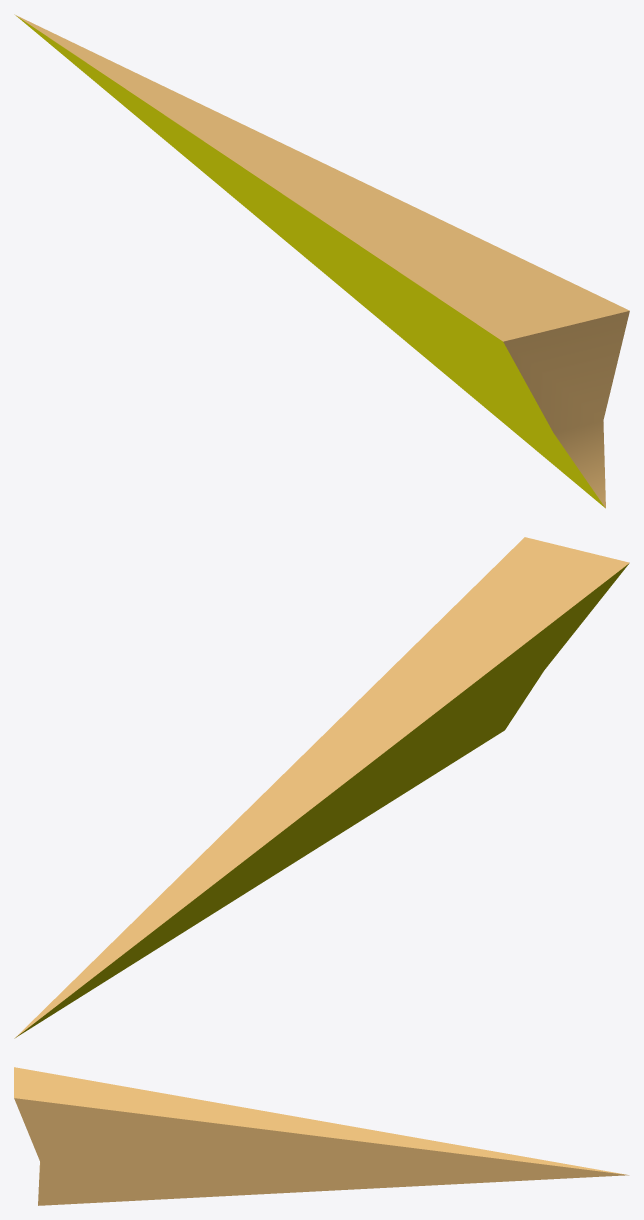
Rendered from ST2Shard1.fbx.
3 renders of one model, top to bottom at view 1: azimuth 30°, elevation 25°; view 2: azimuth 150°, elevation 25°; view 3: azimuth 270°, elevation 25°, orthographic. The views are drawn at different scales.
Parts seen in each view (by area): view 1: shard1; view 2: shard1; view 3: shard1.
Boxes of the visible parts, x1,y1,x2,y2 form: shard1: (14, 14, 629, 508); shard1: (14, 537, 629, 1038); shard1: (14, 1067, 629, 1205).
Size of the model in its own units: 0.00257 by 0.00418 by 0.0217.
Materials: 2 (1 with a texture image).
